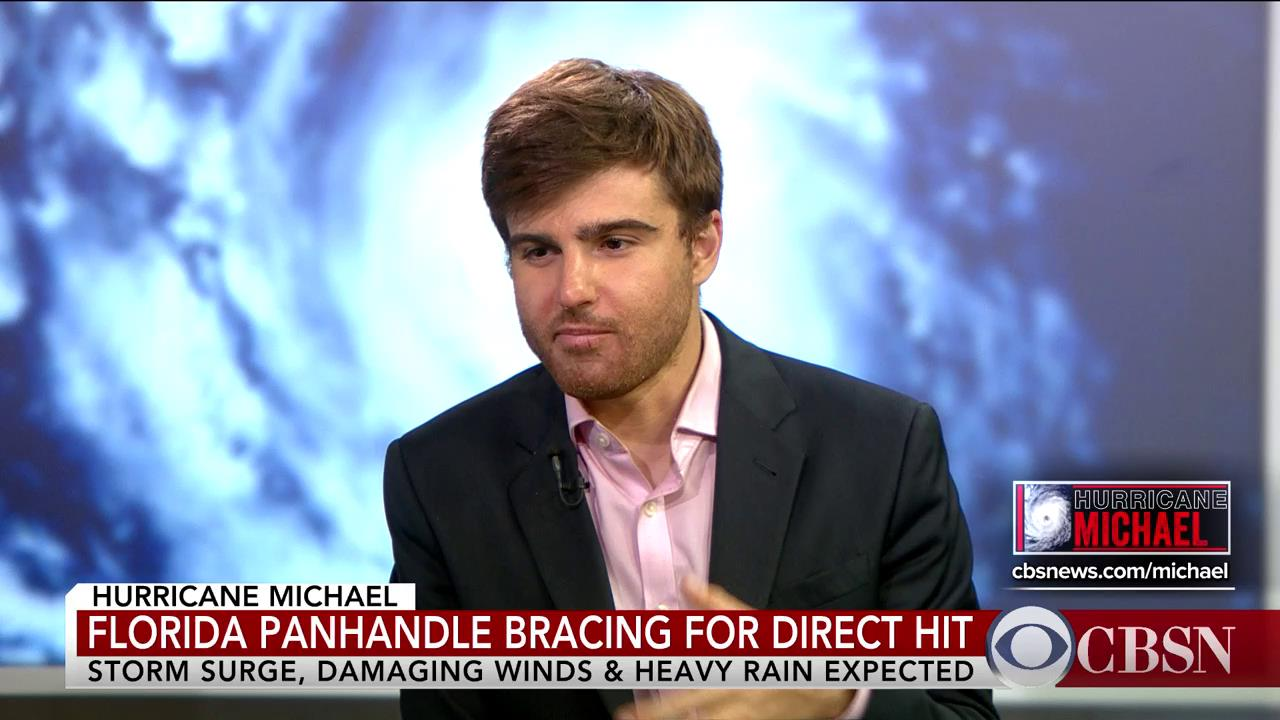CBSN: (1074, 623, 1235, 677)
FLORIDA PANHANDLE BRACING FOR DIRECT HIT: (85, 612, 977, 652)
HURRICANE: (1071, 488, 1226, 511)
HURRICANE MICHAEL: (89, 581, 399, 609)
MICHAEL: (1070, 510, 1208, 547)
STORM SURGE, DAMAGING WINDS & HEAVY RAIN EXPECTED: (82, 654, 977, 687)
cbsnews.com/michael: (1008, 559, 1228, 581)
